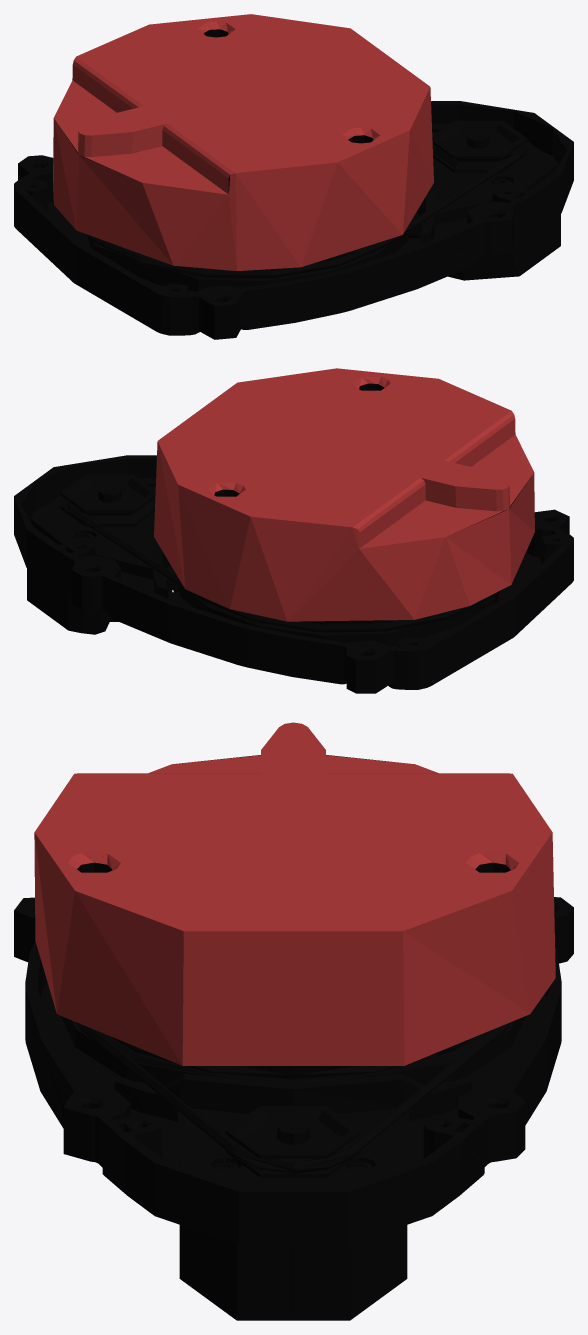
Rendered from lds_v2.dae.
3 views of the same model, one above another, from view 1: azimuth 30°, elevation 25°; view 2: azimuth 150°, elevation 25°; view 3: azimuth 270°, elevation 25° (orthographic). The views are drawn at different scales.
Visible parts, largest first — view 1: lds_0; view 2: lds_0; view 3: lds_0.
Boxes of the visible parts, x1=… form: lds_0: x1=14, y1=14, x2=573, y2=339; lds_0: x1=14, y1=368, x2=573, y2=693; lds_0: x1=14, y1=722, x2=573, y2=1320.
Bounding box in the file's own units: 93.85 × 68.88 × 39.2.
